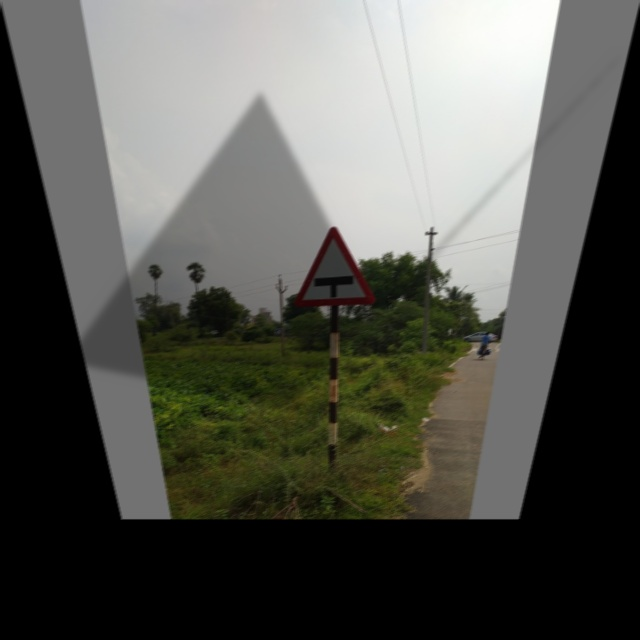T_Intersection: (280, 208, 381, 313)
